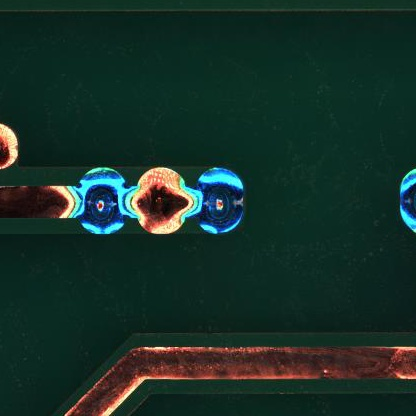spot: (76, 166, 128, 234), (196, 165, 244, 237)
